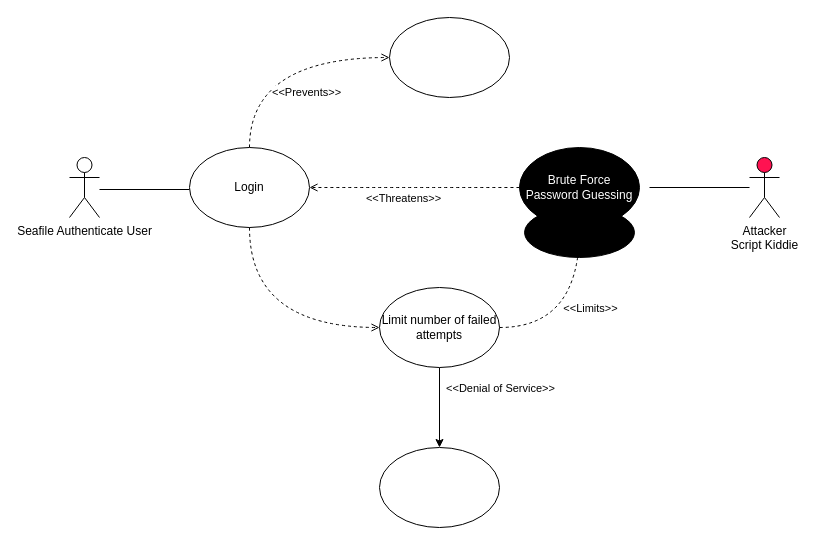
Image size: 815x545. Some labels were removed from this diagram. The shapes that lost their labels are listed below. From the top down, each one's box as (x1, y1, x2, y2) in pixels, then its label:
(388, 16, 510, 98): Multi-Factor Authentication
(524, 206, 634, 258): Credential Stuffing
(378, 446, 500, 528): Lock account
